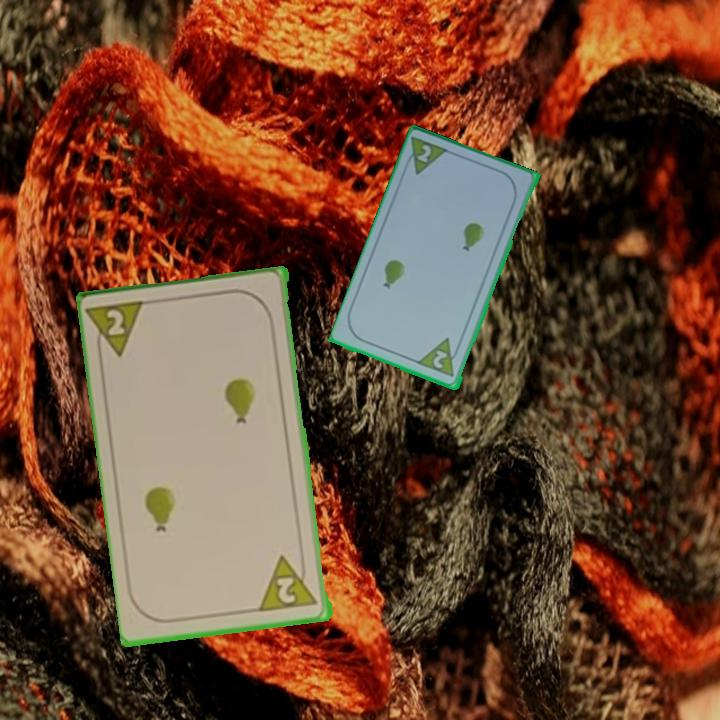2p: (86, 297, 151, 364), (257, 551, 321, 615), (429, 347, 451, 372), (414, 141, 434, 166)
